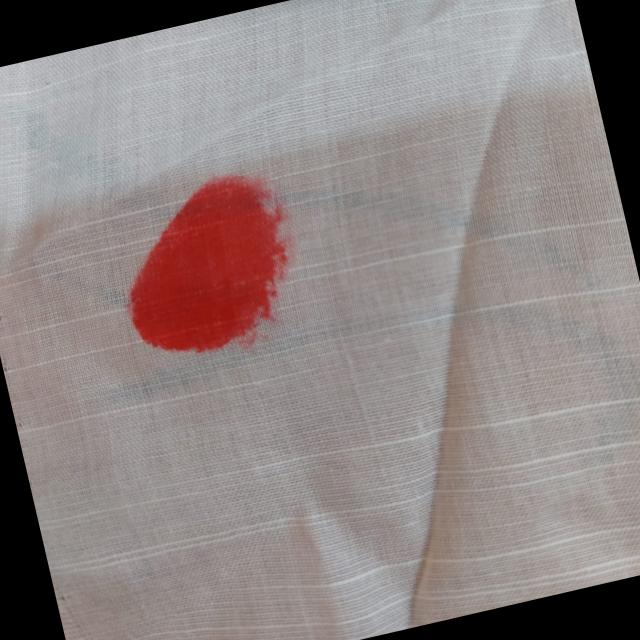Stain: (100, 153, 330, 374)
